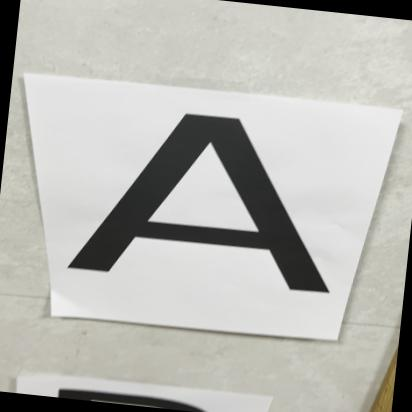seat: (62, 102, 361, 322)
